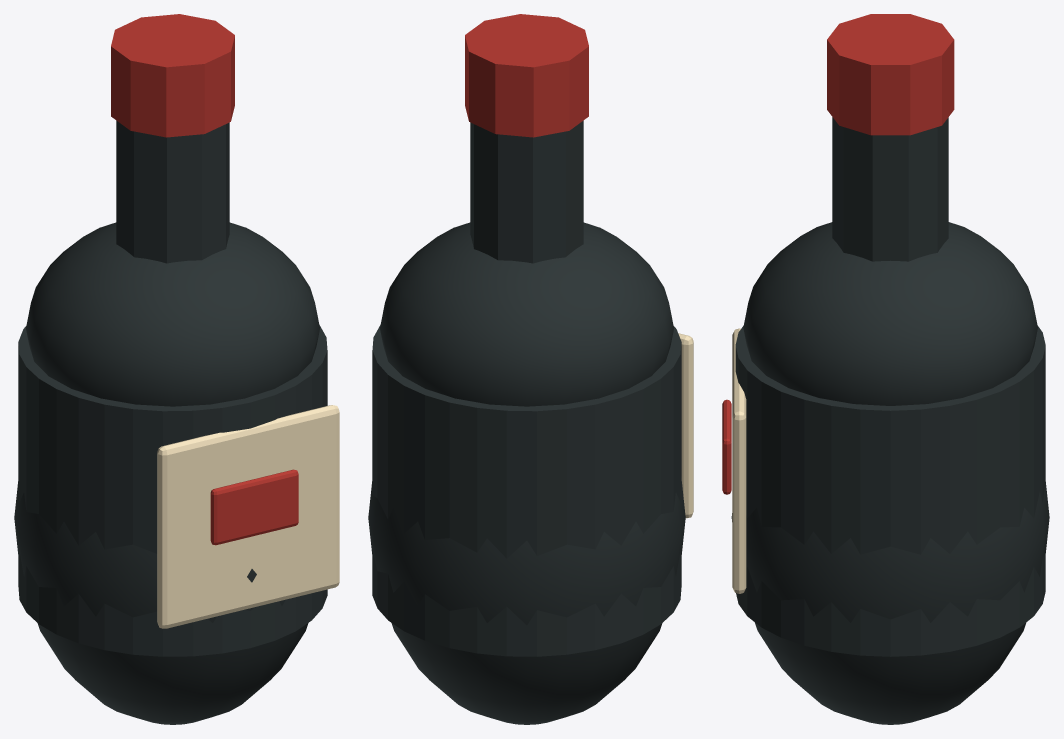
Rendered from food_pisco_runtime.glb.
3 renders of one model, left to right at view 1: azimuth 30°, elevation 25°; view 2: azimuth 150°, elevation 25°; view 3: azimuth 270°, elevation 25°, orthographic.
Parts seen in each view (by area): view 1: Bottle shoulder, Cylinder, Label, Bottle base, Neck, Cork, Label emblem; view 2: Cylinder, Bottle shoulder, Bottle base, Neck, Cork, Label; view 3: Cylinder, Bottle shoulder, Bottle base, Neck, Cork, Label, Label emblem.
Part boxes in pixels (left/top/right/bottom): Bottle shoulder: left=26, top=222, right=319, bottom=406; Cylinder: left=18, top=325, right=327, bottom=656; Label: left=157, top=405, right=339, bottom=628; Bottle base: left=14, top=476, right=308, bottom=724; Neck: left=116, top=120, right=229, bottom=263; Cork: left=111, top=14, right=234, bottom=137; Label emblem: left=210, top=469, right=298, bottom=545; Cylinder: left=372, top=325, right=681, bottom=656; Bottle shoulder: left=380, top=222, right=673, bottom=406; Bottle base: left=368, top=476, right=685, bottom=724; Neck: left=470, top=120, right=583, bottom=263; Cork: left=465, top=14, right=588, bottom=137; Label: left=678, top=333, right=693, bottom=518; Cylinder: left=735, top=325, right=1045, bottom=656; Bottle shoulder: left=743, top=222, right=1037, bottom=405; Bottle base: left=731, top=482, right=1049, bottom=724; Neck: left=832, top=117, right=948, bottom=261; Cork: left=827, top=14, right=954, bottom=135; Label: left=732, top=328, right=746, bottom=593; Label emblem: left=722, top=399, right=731, bottom=494.
Bounding box in the file's own units: 0.41 × 0.96 × 0.422.
